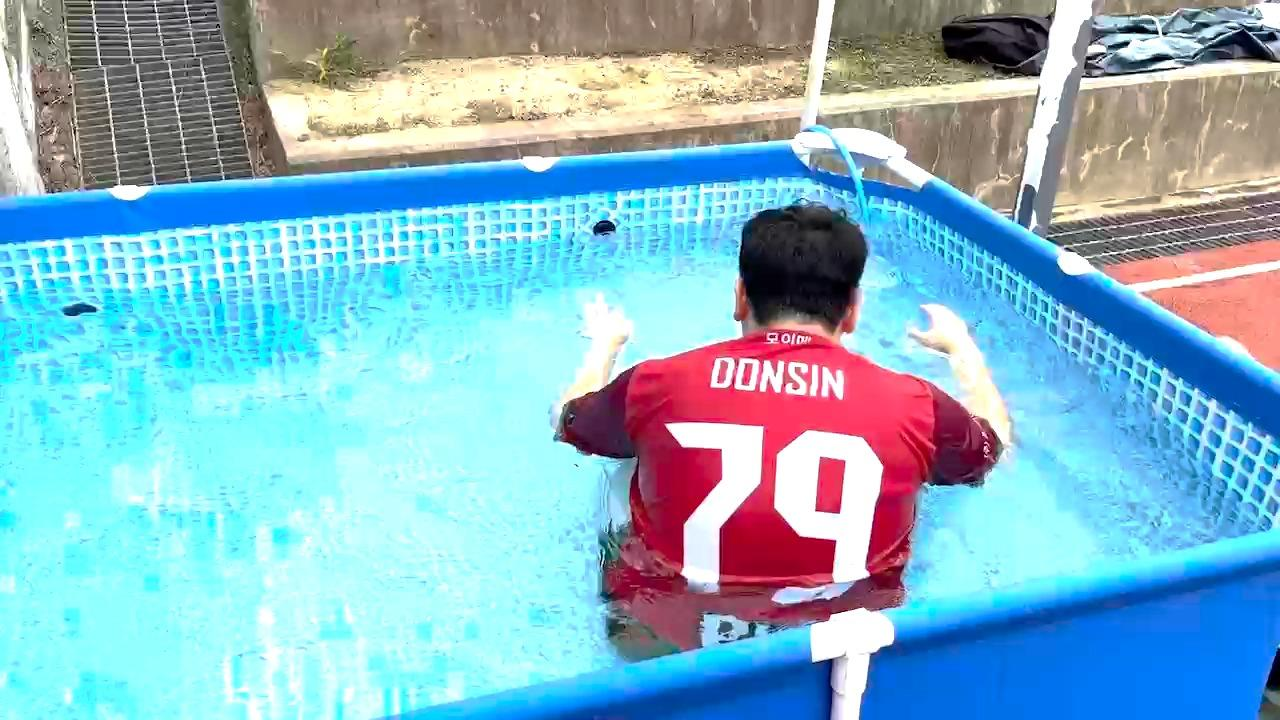Swimming: (483, 157, 1052, 654)
